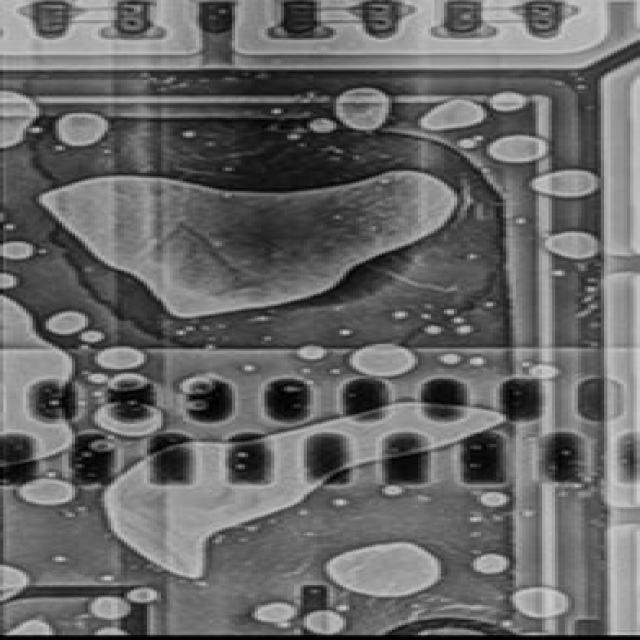chip: (0, 0, 639, 633)
void: (41, 171, 457, 317), (326, 542, 440, 597), (336, 88, 391, 131), (350, 344, 417, 376), (421, 99, 486, 131), (531, 170, 597, 198), (513, 587, 568, 619), (487, 135, 547, 163), (19, 478, 73, 504), (547, 231, 597, 259), (95, 346, 144, 369), (252, 602, 296, 627), (46, 311, 87, 335), (303, 610, 345, 633), (489, 92, 527, 112), (473, 553, 507, 574), (7, 618, 52, 633), (2, 241, 32, 260), (528, 364, 558, 380), (297, 346, 326, 360)
